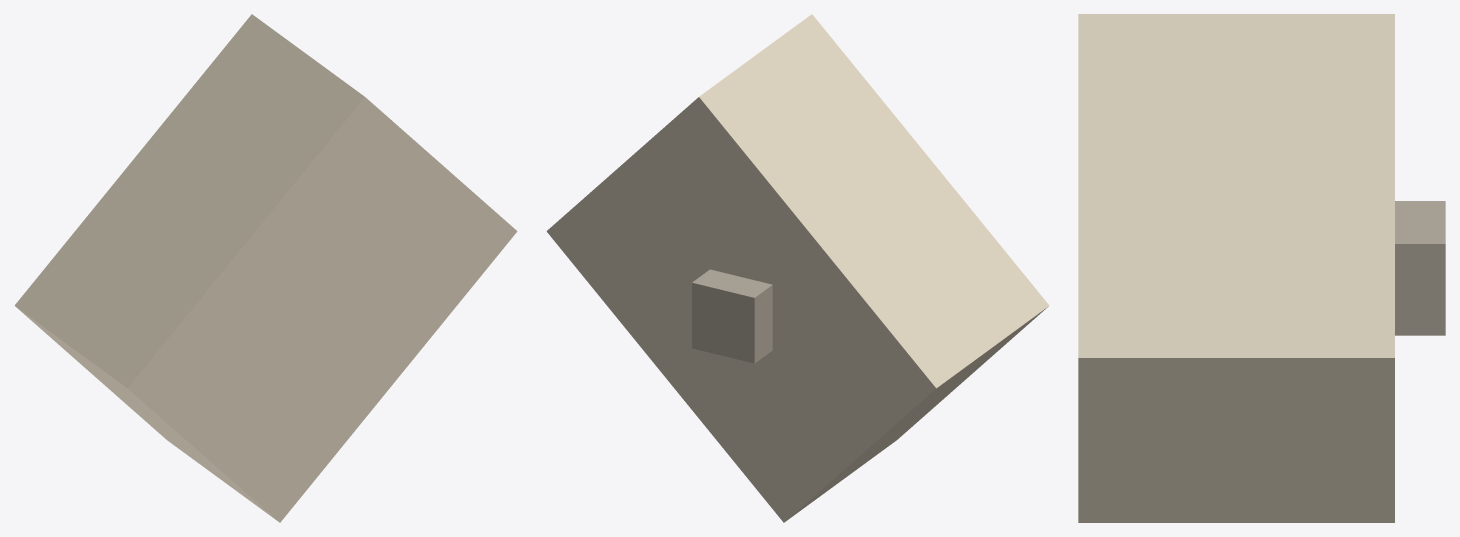
File: historic-palestine-10_14_3522_3082.glb
3 renders of one model, left to right at view 1: azimuth 30°, elevation 25°; view 2: azimuth 150°, elevation 25°; view 3: azimuth 270°, elevation 25°, orthographic. The views are drawn at different scales.
Visible parts, largest first — view 1: Building_; view 2: Building_, Roof access hut; view 3: Building_, Roof access hut.
Boxes of the visible parts, x1,y1,x2,y2 form: Building_: [14, 14, 517, 522]; Building_: [546, 14, 1049, 522]; Roof access hut: [692, 269, 772, 363]; Building_: [1078, 14, 1394, 522]; Roof access hut: [1395, 201, 1445, 335].
Bounding box in the file's own units: 14.92 × 14.82 × 8.7.
